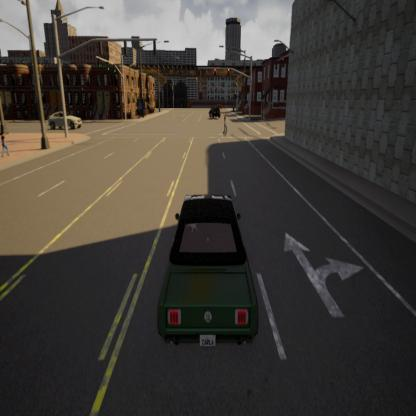Cars: (156, 191, 261, 351), (47, 106, 84, 131), (208, 103, 222, 121)
Pedestrian: (0, 129, 9, 163), (223, 110, 228, 137)
